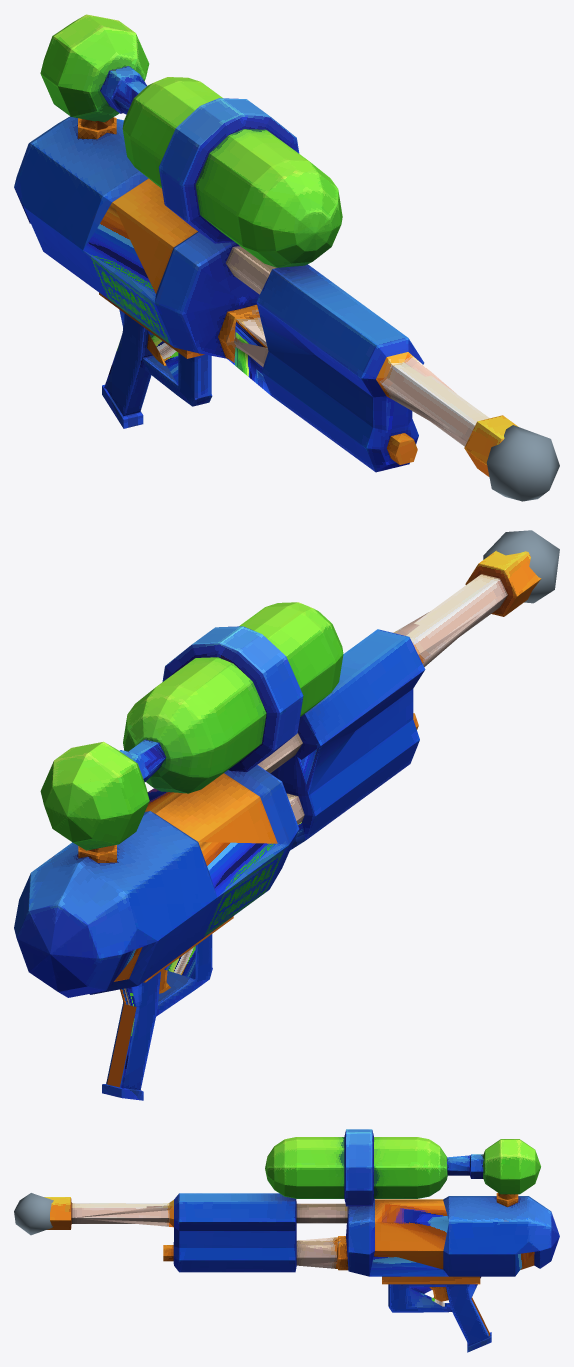
File: item_water_supersoaker_blue.glb
The picture shows the model from 3 angles, top to bottom: view 1: azimuth 30°, elevation 25°; view 2: azimuth 150°, elevation 25°; view 3: azimuth 270°, elevation 25°; orthographic projection. The views are drawn at different scales.
Visible parts, largest first — view 1: pSphere2, WaterDrip; view 2: pSphere2, WaterDrip; view 3: pSphere2, WaterDrip.
Boxes of the visible parts, x1,y1,x2,y2 form: pSphere2: [14, 14, 518, 476]; WaterDrip: [486, 425, 559, 501]; pSphere2: [14, 550, 541, 1100]; WaterDrip: [483, 530, 559, 603]; pSphere2: [44, 1129, 559, 1352]; WaterDrip: [14, 1193, 53, 1235].
Size of the model in its own units: 0.1388 by 0.3879 by 0.883.
Materials: 2 (1 with a texture image).
